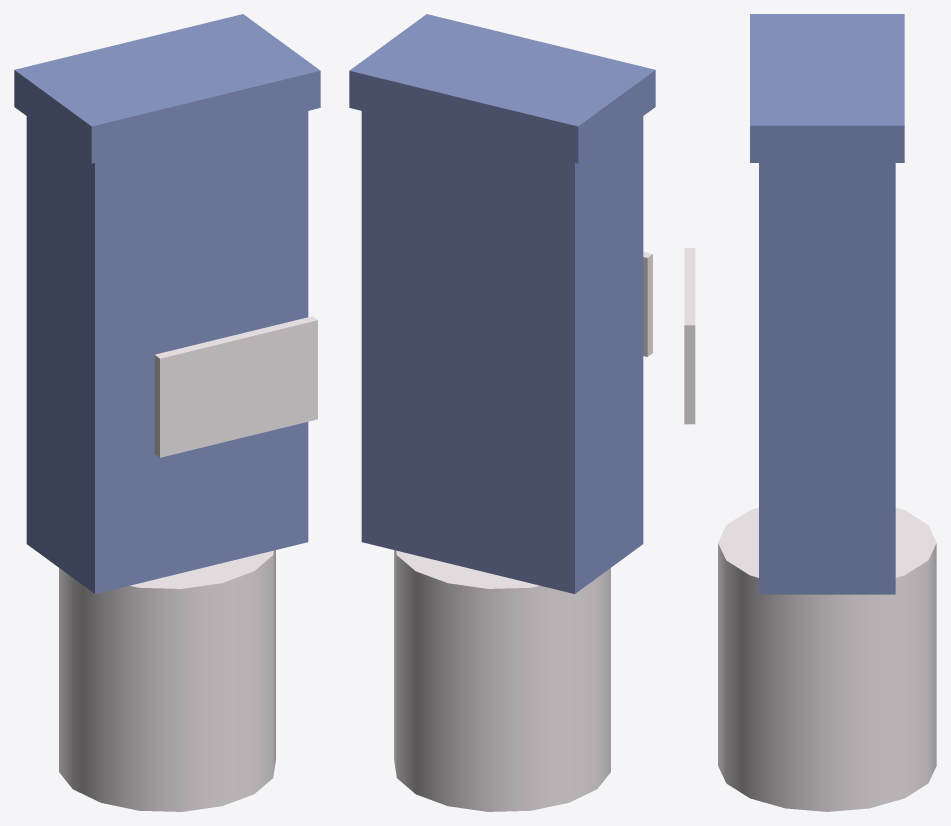
The model's file is TRD-01-11.glb.
3 renders of one model, left to right at view 1: azimuth 30°, elevation 25°; view 2: azimuth 150°, elevation 25°; view 3: azimuth 270°, elevation 25°, orthographic.
Visible parts, largest first — view 1: TRD-01-11; view 2: TRD-01-11; view 3: TRD-01-11.
Part boxes in pixels (box(x1,y1,x2,y2)): TRD-01-11: box(14, 14, 320, 811); TRD-01-11: box(349, 14, 655, 811); TRD-01-11: box(684, 14, 936, 811).
Bounding box in the file's own units: 0.29 × 0.8425 × 0.277.
